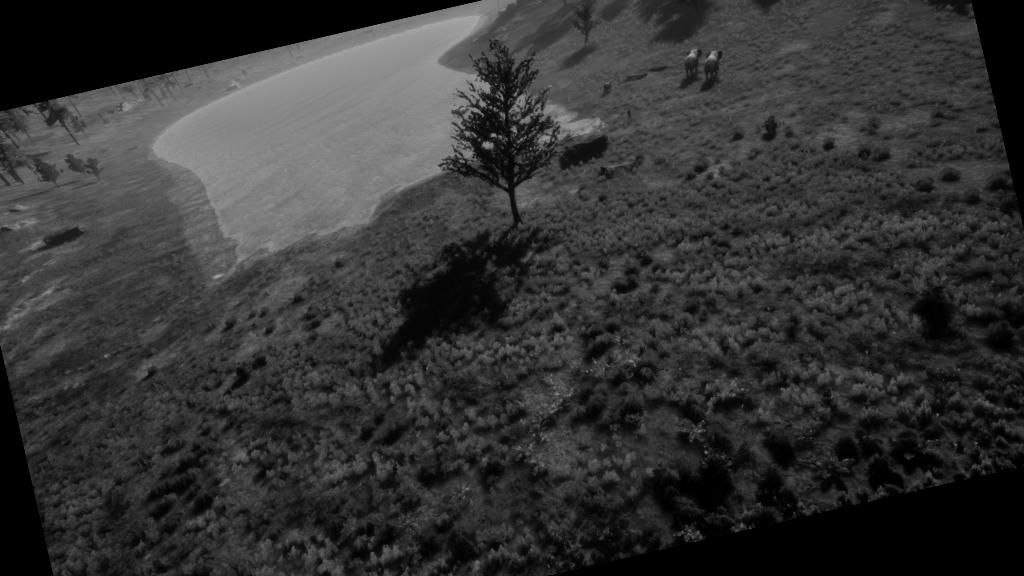elephant: (695, 45, 734, 83), (679, 46, 703, 78), (600, 79, 616, 94)
human: (624, 107, 634, 122)
